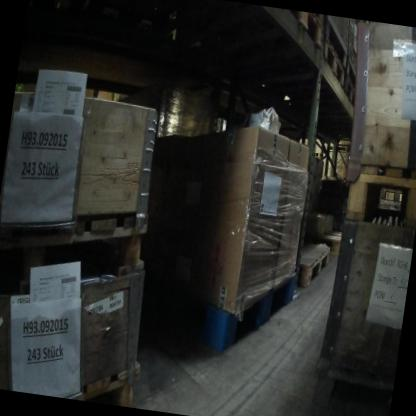pallet: (0, 196, 154, 320), (171, 262, 297, 371), (340, 163, 416, 230), (73, 346, 146, 408), (288, 240, 333, 299), (277, 9, 329, 56), (317, 34, 351, 97), (338, 67, 362, 119), (374, 181, 403, 210)
